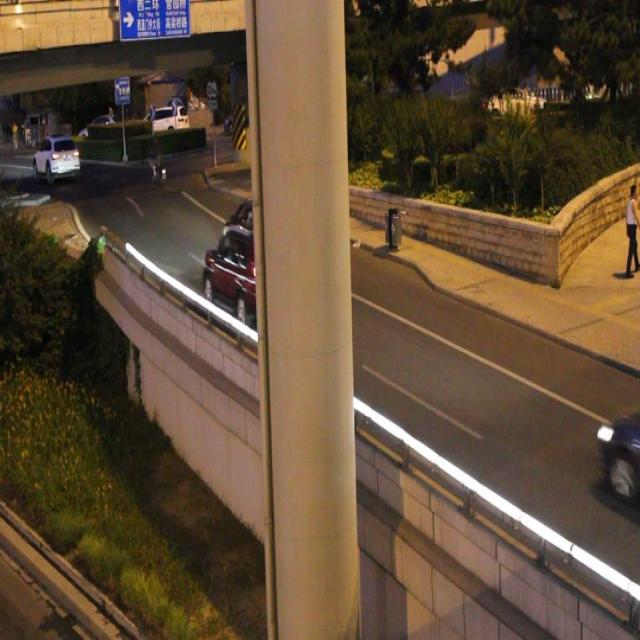car: (202, 222, 290, 326), (221, 194, 296, 276), (591, 397, 640, 501)
